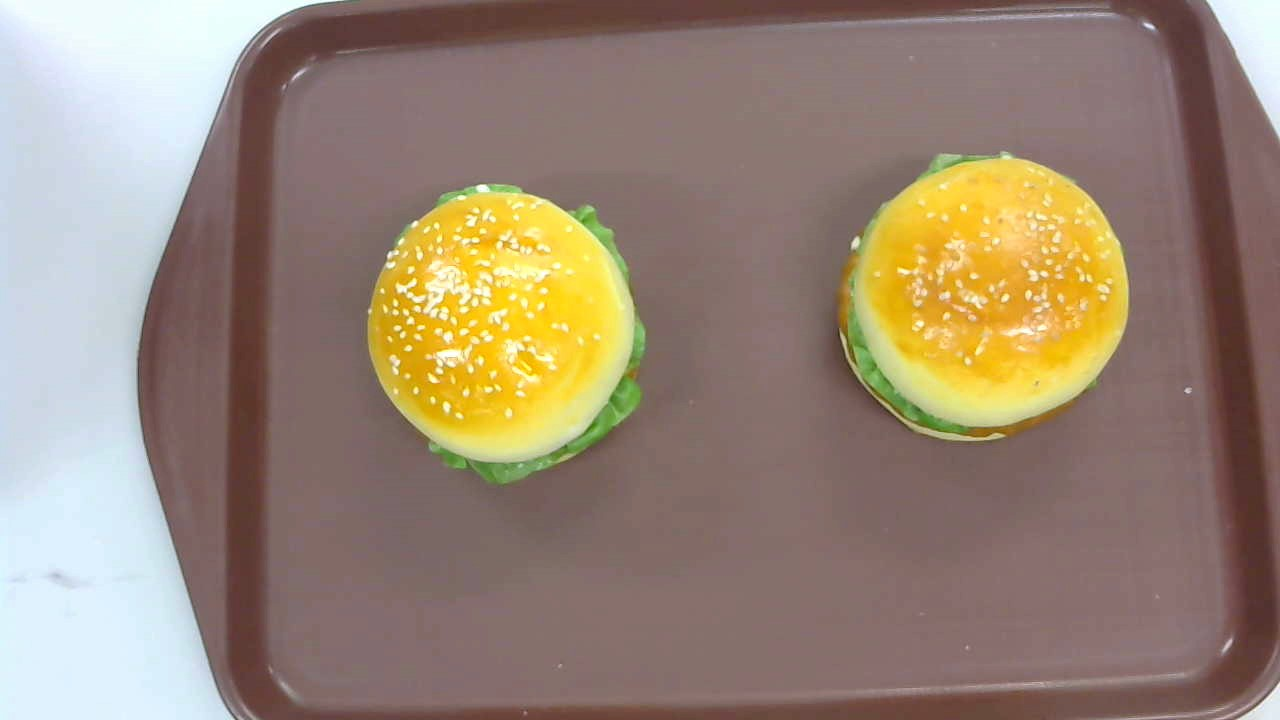hamburger: (836, 153, 1132, 441), (366, 185, 647, 485)
